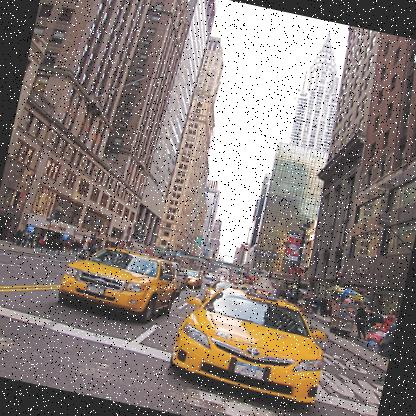Car: (47, 228, 338, 405)
